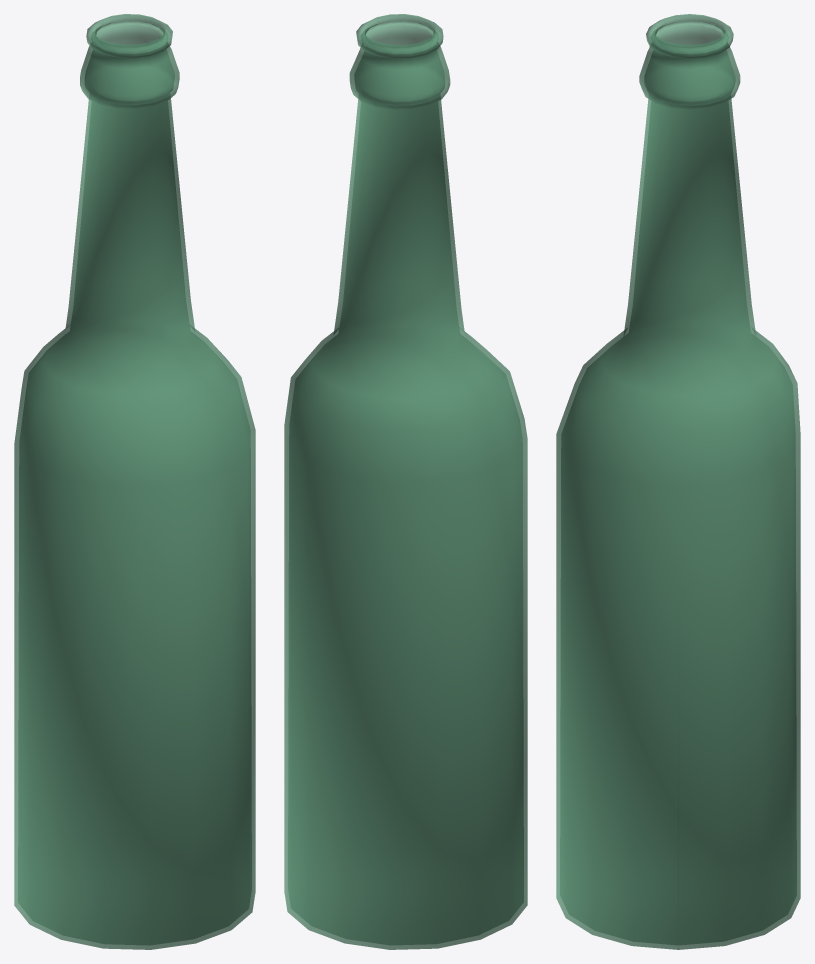
The model's file is misc_bottle.fbx.
The picture shows the model from 3 angles, left to right: view 1: azimuth 30°, elevation 25°; view 2: azimuth 150°, elevation 25°; view 3: azimuth 270°, elevation 25°; orthographic projection.
Visible parts, largest first — view 1: misc_bottle; view 2: misc_bottle; view 3: misc_bottle.
Boxes of the visible parts, left/top/right/bottom form: misc_bottle: left=14, top=14, right=255, bottom=949; misc_bottle: left=284, top=14, right=527, bottom=949; misc_bottle: left=556, top=14, right=800, bottom=949.
Bounding box in the file's own units: 7.39 × 29 × 7.39.
